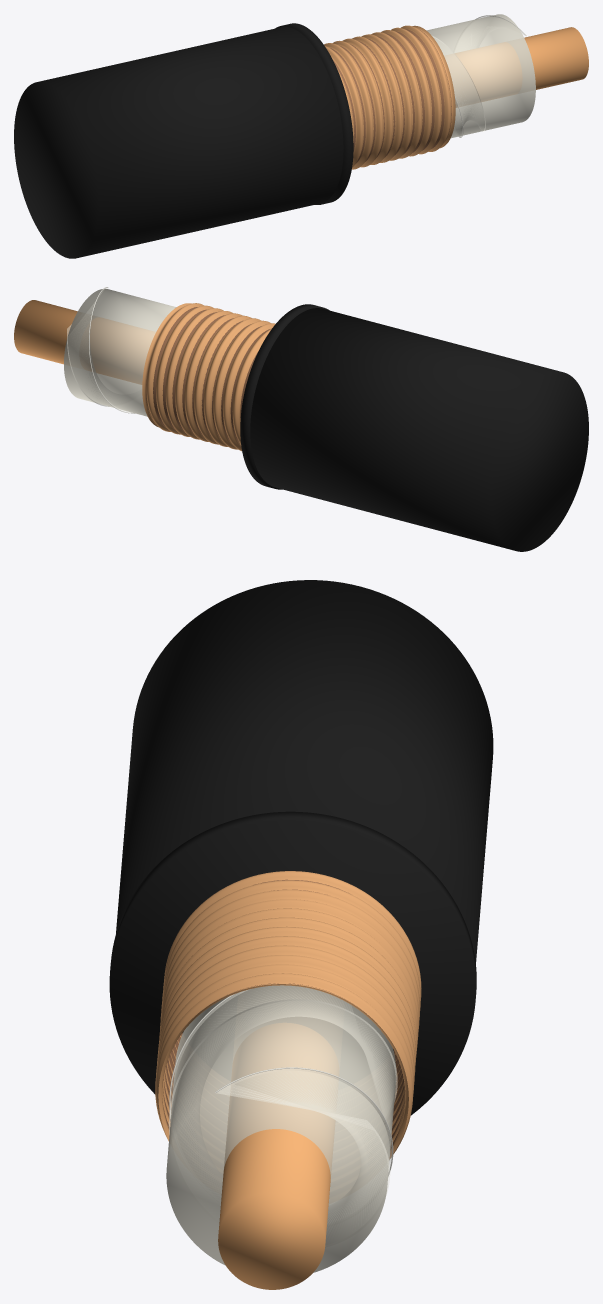
Rendered from rf-fsj2.glb.
The picture shows the model from 3 angles, top to bottom: view 1: azimuth 30°, elevation 25°; view 2: azimuth 150°, elevation 25°; view 3: azimuth 270°, elevation 25°; orthographic projection. The views are drawn at different scales.
Visible parts, largest first — view 1: black PE jacket body, corrugated copper shield, foam PE dielectric, solid center conductor continuous, dark groove shadow pass, jacket cut lip, surface PTFE tape wrap; view 2: black PE jacket body, corrugated copper shield, foam PE dielectric, solid center conductor continuous, dark groove shadow pass, jacket cut lip, surface PTFE tape wrap; view 3: black PE jacket body, foam PE dielectric, jacket cut lip, corrugated copper shield, solid center conductor continuous, surface PTFE tape wrap, dark groove shadow pass.
Boxes of the visible parts, <box> form: black PE jacket body: <box>14,26,343,258</box>; corrugated copper shield: <box>324,25,455,169</box>; foam PE dielectric: <box>426,14,535,138</box>; solid center conductor continuous: <box>445,27,588,107</box>; dark groove shadow pass: <box>330,29,451,163</box>; jacket cut lip: <box>275,23,353,204</box>; surface PTFE tape wrap: <box>432,16,525,136</box>; black PE jacket body: <box>250,308,588,551</box>; corrugated copper shield: <box>142,303,275,451</box>; foam PE dielectric: <box>64,288,176,416</box>; solid center conductor continuous: <box>14,300,155,384</box>; dark groove shadow pass: <box>146,307,271,443</box>; jacket cut lip: <box>240,304,329,489</box>; surface PTFE tape wrap: <box>67,288,141,412</box>; black PE jacket body: <box>116,580,493,963</box>; foam PE dielectric: <box>166,985,396,1272</box>; jacket cut lip: <box>109,811,476,1115</box>; corrugated copper shield: <box>155,871,421,1159</box>; solid center conductor continuous: <box>218,1023,338,1289</box>; surface PTFE tape wrap: <box>169,986,397,1238</box>; dark groove shadow pass: <box>162,879,405,1148</box>.
Size of the model in its own units: 6.69 by 2.07 by 2.17.
